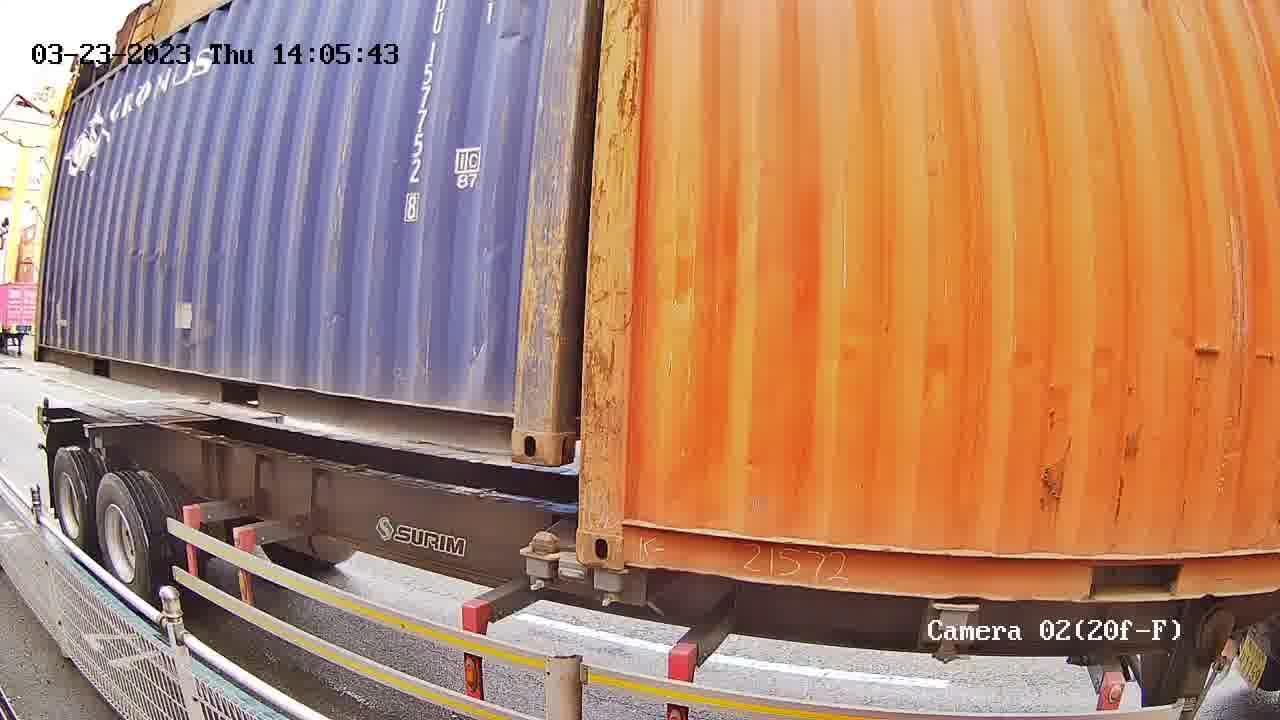Cone: (522, 528, 557, 593), (588, 567, 631, 608)
Hole_L: (576, 488, 666, 574)
Hole_R: (466, 379, 555, 468)
Tire: (96, 475, 155, 605), (50, 449, 92, 554)
